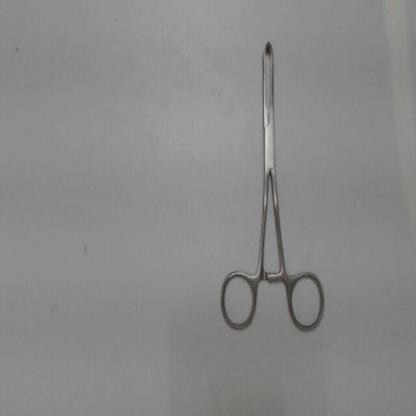Allis Tissue Forceps: (216, 28, 334, 337)
